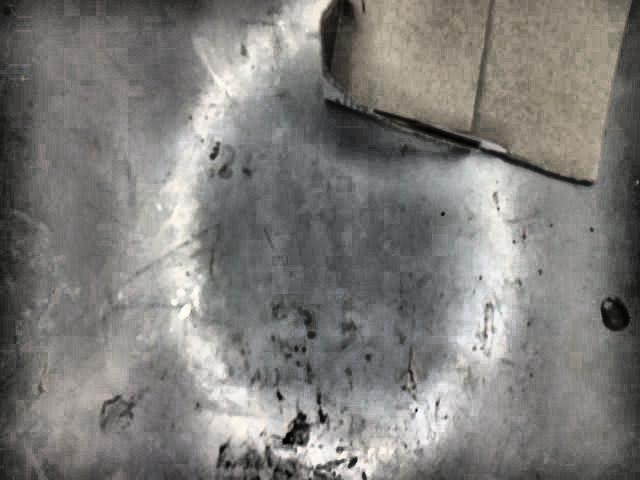Paper: (319, 0, 631, 182)
